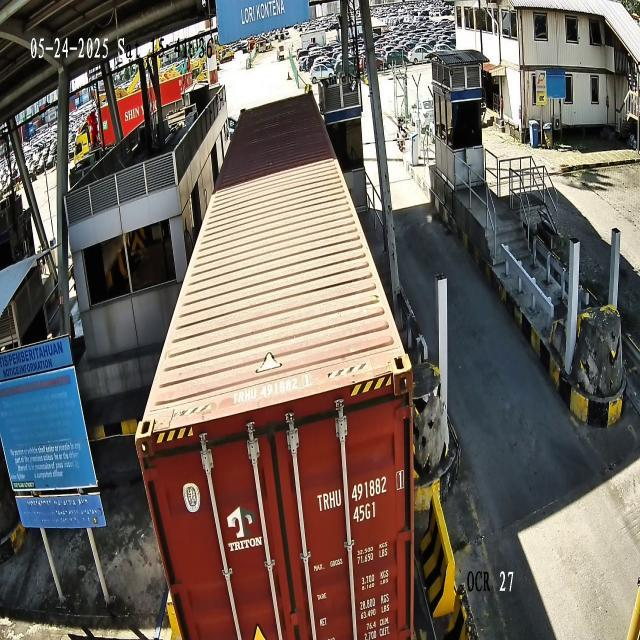ISO: (352, 500, 376, 526)
container_number: (318, 468, 404, 513)
